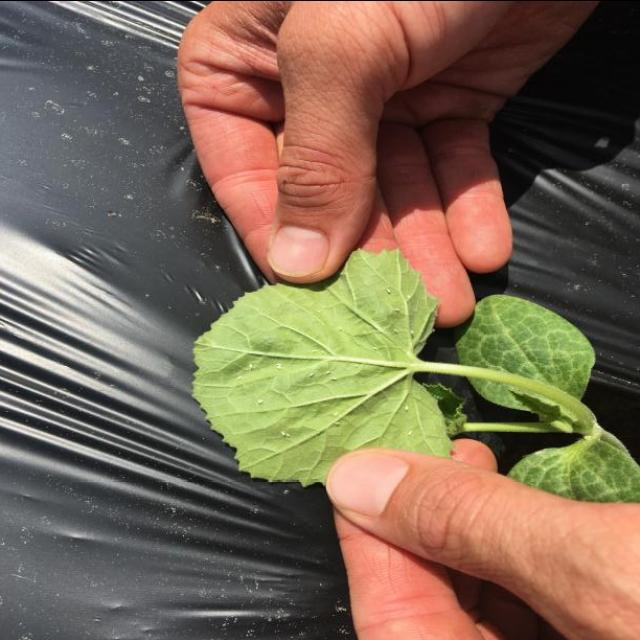Whitefly: (238, 310, 352, 456), (376, 277, 426, 351)
